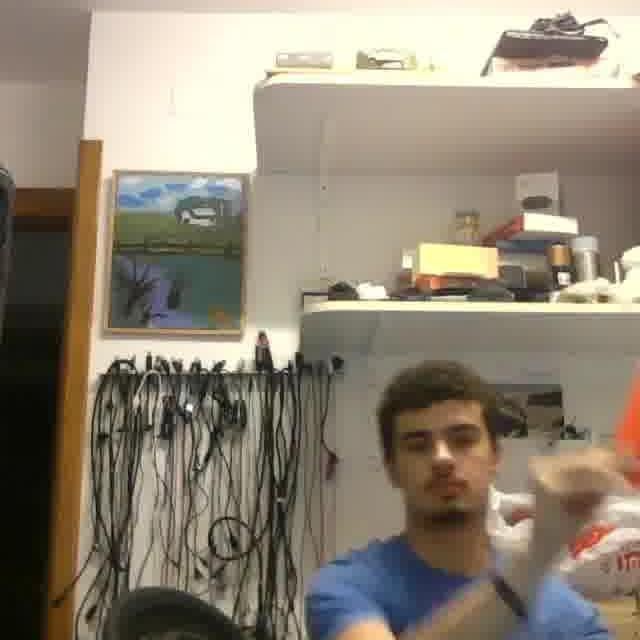NO-Hardhat: (381, 363, 492, 416)
NO-Mask: (403, 473, 486, 522)
NO-Safety Vest: (350, 541, 565, 640)
Person: (307, 361, 640, 640)
Safety Cone: (596, 224, 640, 536)
